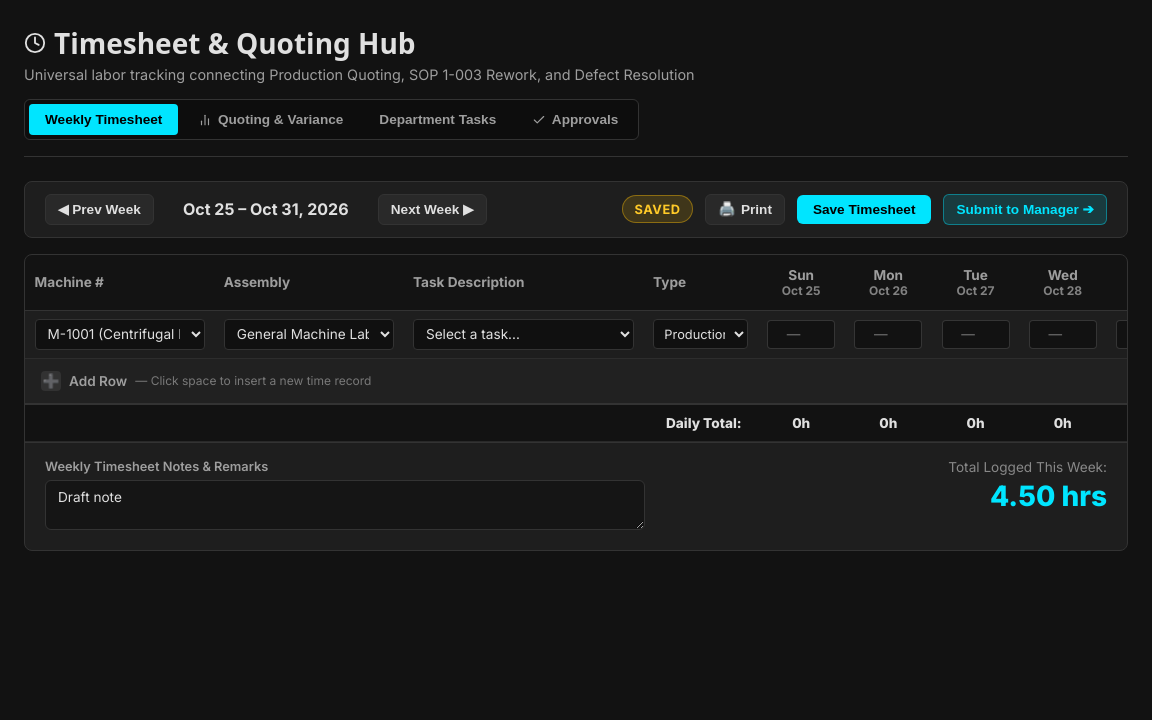
TimesheetPage › opens the printable timesheet modal when Print button is clicked
The width and height of the screenshot is (1152, 720).
What coordinates should you click on to do the following:
click the button "🖨️ Print"
I would click on:
 (745, 209)
Its box is left=705, top=194, right=785, bottom=225.
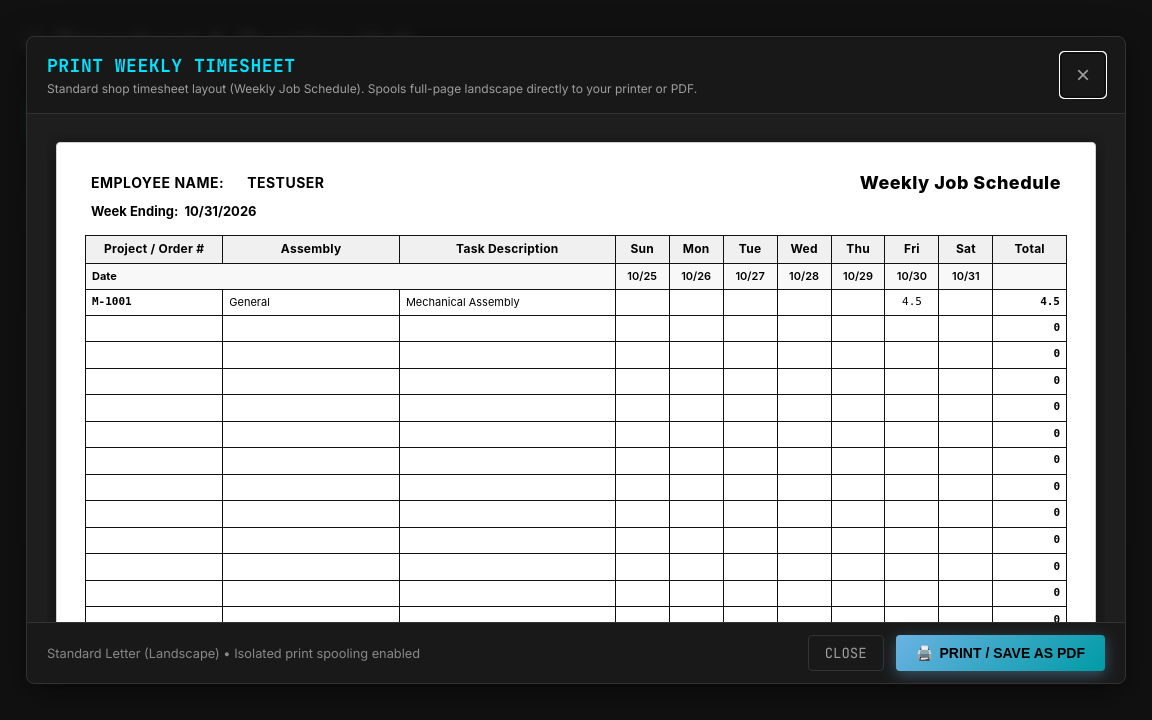
Expected: the heading "Print Weekly Timesheet" is shown, left=47, top=54, right=296, bottom=77
